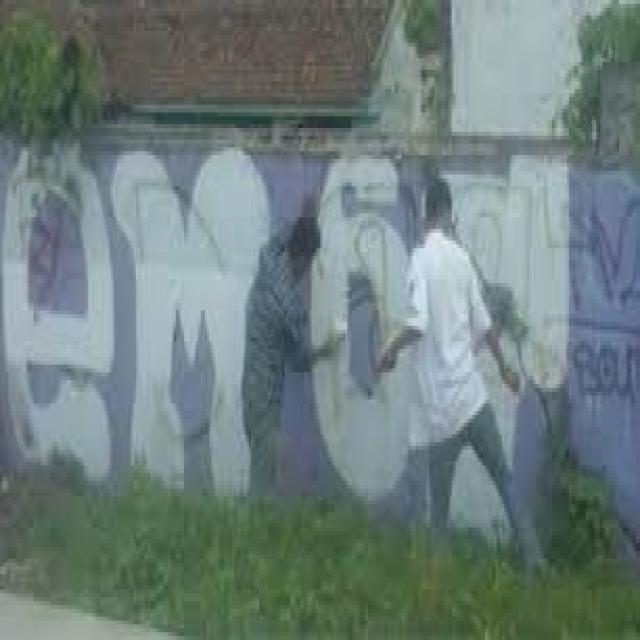-: (424, 159, 574, 528), (114, 146, 258, 498), (304, 152, 417, 494), (0, 144, 115, 478), (567, 186, 640, 411)
